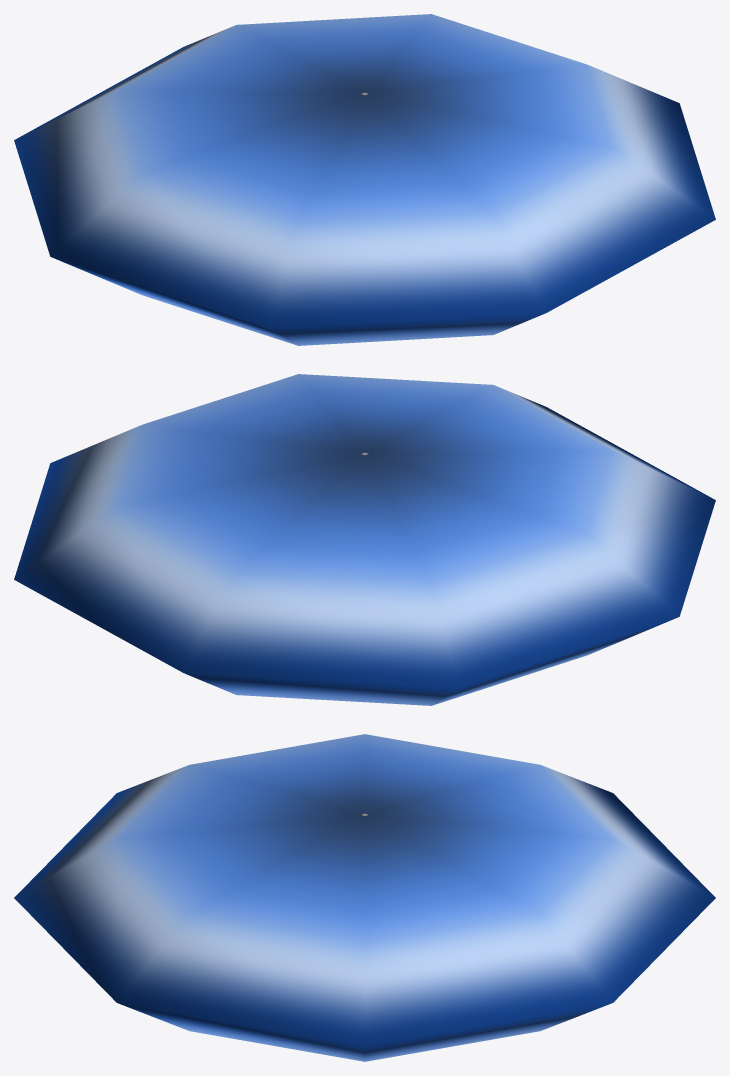
Rendered from Skybox.FBX.
3 renders of one model, top to bottom at view 1: azimuth 30°, elevation 25°; view 2: azimuth 150°, elevation 25°; view 3: azimuth 270°, elevation 25°, orthographic. The views are drawn at different scales.
Visible parts, largest first — view 1: Sphere01; view 2: Sphere01; view 3: Sphere01.
Boxes of the visible parts, x1,y1,x2,y2 form: Sphere01: (14,14,715,345); Sphere01: (14,374,715,705); Sphere01: (14,734,715,1061).
Size of the model in its own units: 716 by 188 by 716.
